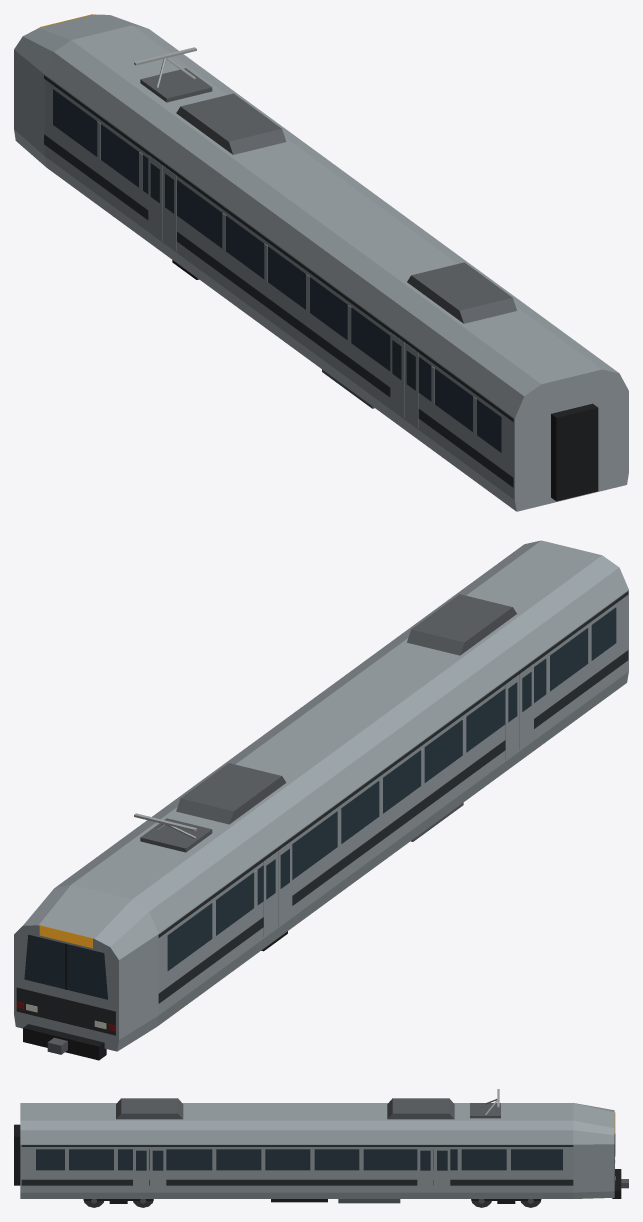
The model's file is carriage_cab.glb.
The picture shows the model from 3 angles, top to bottom: view 1: azimuth 30°, elevation 25°; view 2: azimuth 150°, elevation 25°; view 3: azimuth 270°, elevation 25°; orthographic projection. The views are drawn at different scales.
Parts seen in each view (by area): view 1: CarriageCab, DoorsL; view 2: CarriageCab, DoorsL; view 3: CarriageCab, DoorsR.
Part boxes in pixels (box(x1,y1,x2,y2)): CarriageCab: box(14, 14, 628, 511); DoorsL: box(148, 155, 418, 428); CarriageCab: box(14, 540, 628, 1060); DoorsL: box(263, 664, 533, 936); CarriageCab: box(14, 1089, 628, 1207); DoorsR: box(133, 1147, 450, 1191).
Bounding box in the file's own units: 3.04 × 4.4 × 23.8.
